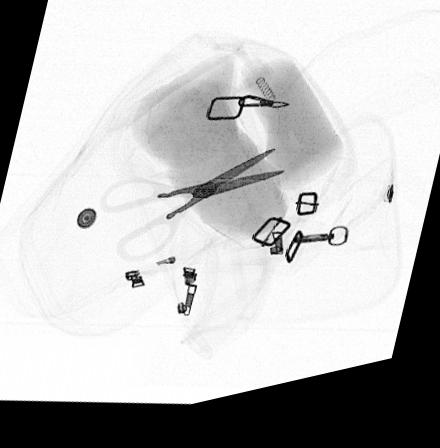Scissors: (98, 159, 285, 268)
